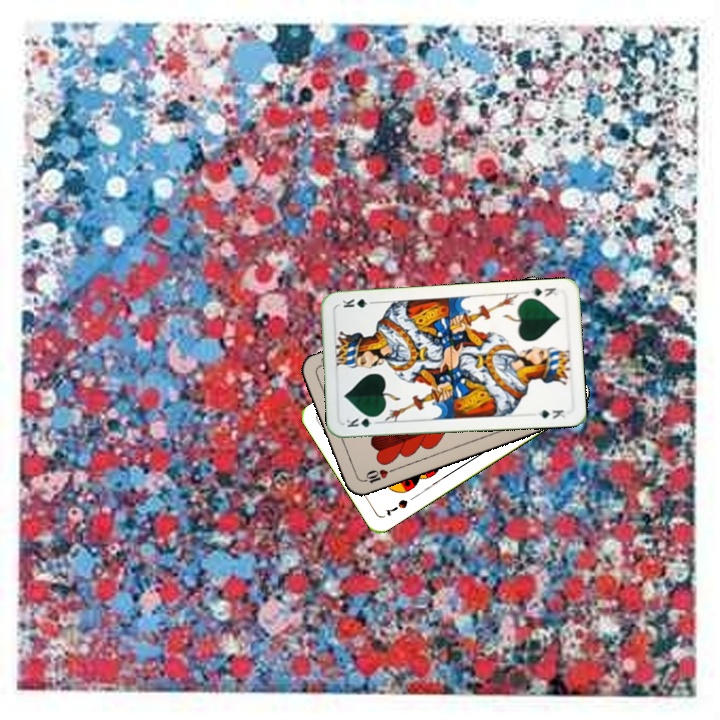GK: (342, 412, 382, 430), (523, 284, 559, 300)
H10: (357, 465, 396, 486)
S7: (381, 495, 410, 519)
